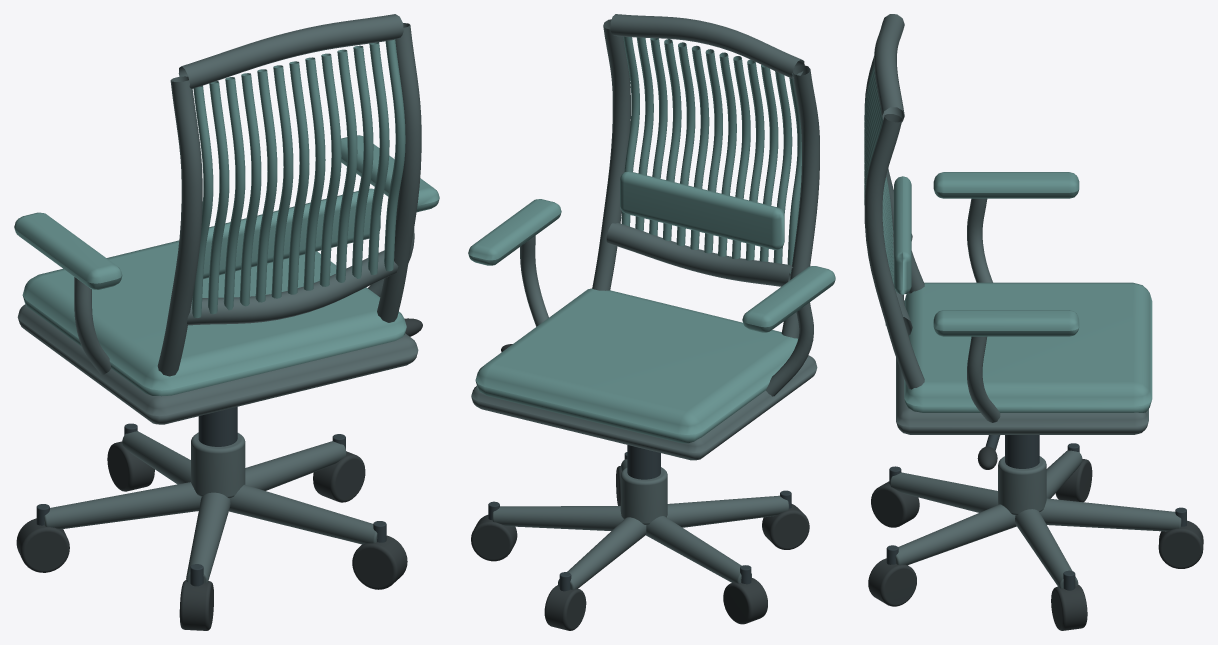
The model's file is chair.glb.
3 views of the same model, side by side, from view 1: azimuth 30°, elevation 25°; view 2: azimuth 150°, elevation 25°; view 3: azimuth 270°, elevation 25° (orthographic). The views are drawn at different scales.
Parts seen in each view (by area): view 1: ChairRoot.ChairFabric, ChairRoot.ChairFrame, ChairRoot.PlasticDark, ChairRoot.Graphite; view 2: ChairRoot.ChairFabric, ChairRoot.ChairFrame, ChairRoot.PlasticDark, ChairRoot.Graphite; view 3: ChairRoot.ChairFabric, ChairRoot.ChairFrame, ChairRoot.PlasticDark, ChairRoot.Graphite.
Part boxes in pixels (<box>): ChairRoot.ChairFabric: <box>14,39,439,396</box>; ChairRoot.ChairFrame: <box>17,14,421,582</box>; ChairRoot.PlasticDark: <box>16,318,422,630</box>; ChairRoot.Graphite: <box>36,407,386,586</box>; ChairRoot.ChairFabric: <box>468,36,835,443</box>; ChairRoot.ChairFrame: <box>471,14,819,589</box>; ChairRoot.PlasticDark: <box>471,344,809,630</box>; ChairRoot.Graphite: <box>488,445,791,591</box>; ChairRoot.ChairFabric: <box>864,65,1152,412</box>; ChairRoot.ChairFrame: <box>864,14,1181,588</box>; ChairRoot.PlasticDark: <box>868,446,1203,630</box>; ChairRoot.Graphite: <box>886,435,1186,590</box>.
Size of the model in its own units: 0.748 by 1.14 by 0.6838.
